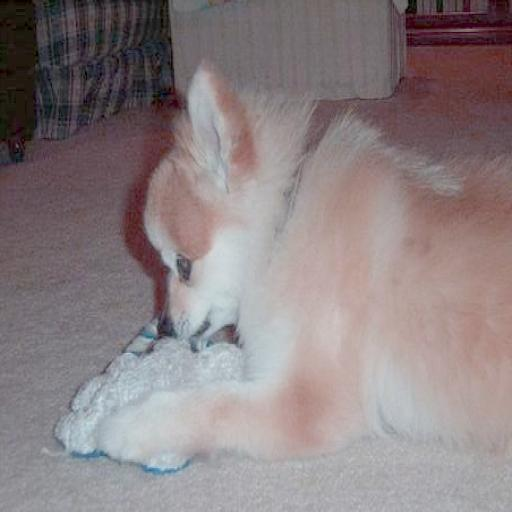dog_face: (149, 92, 264, 347)
